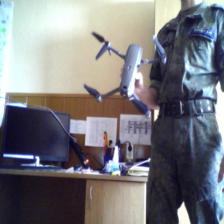drone: (90, 34, 166, 123)
